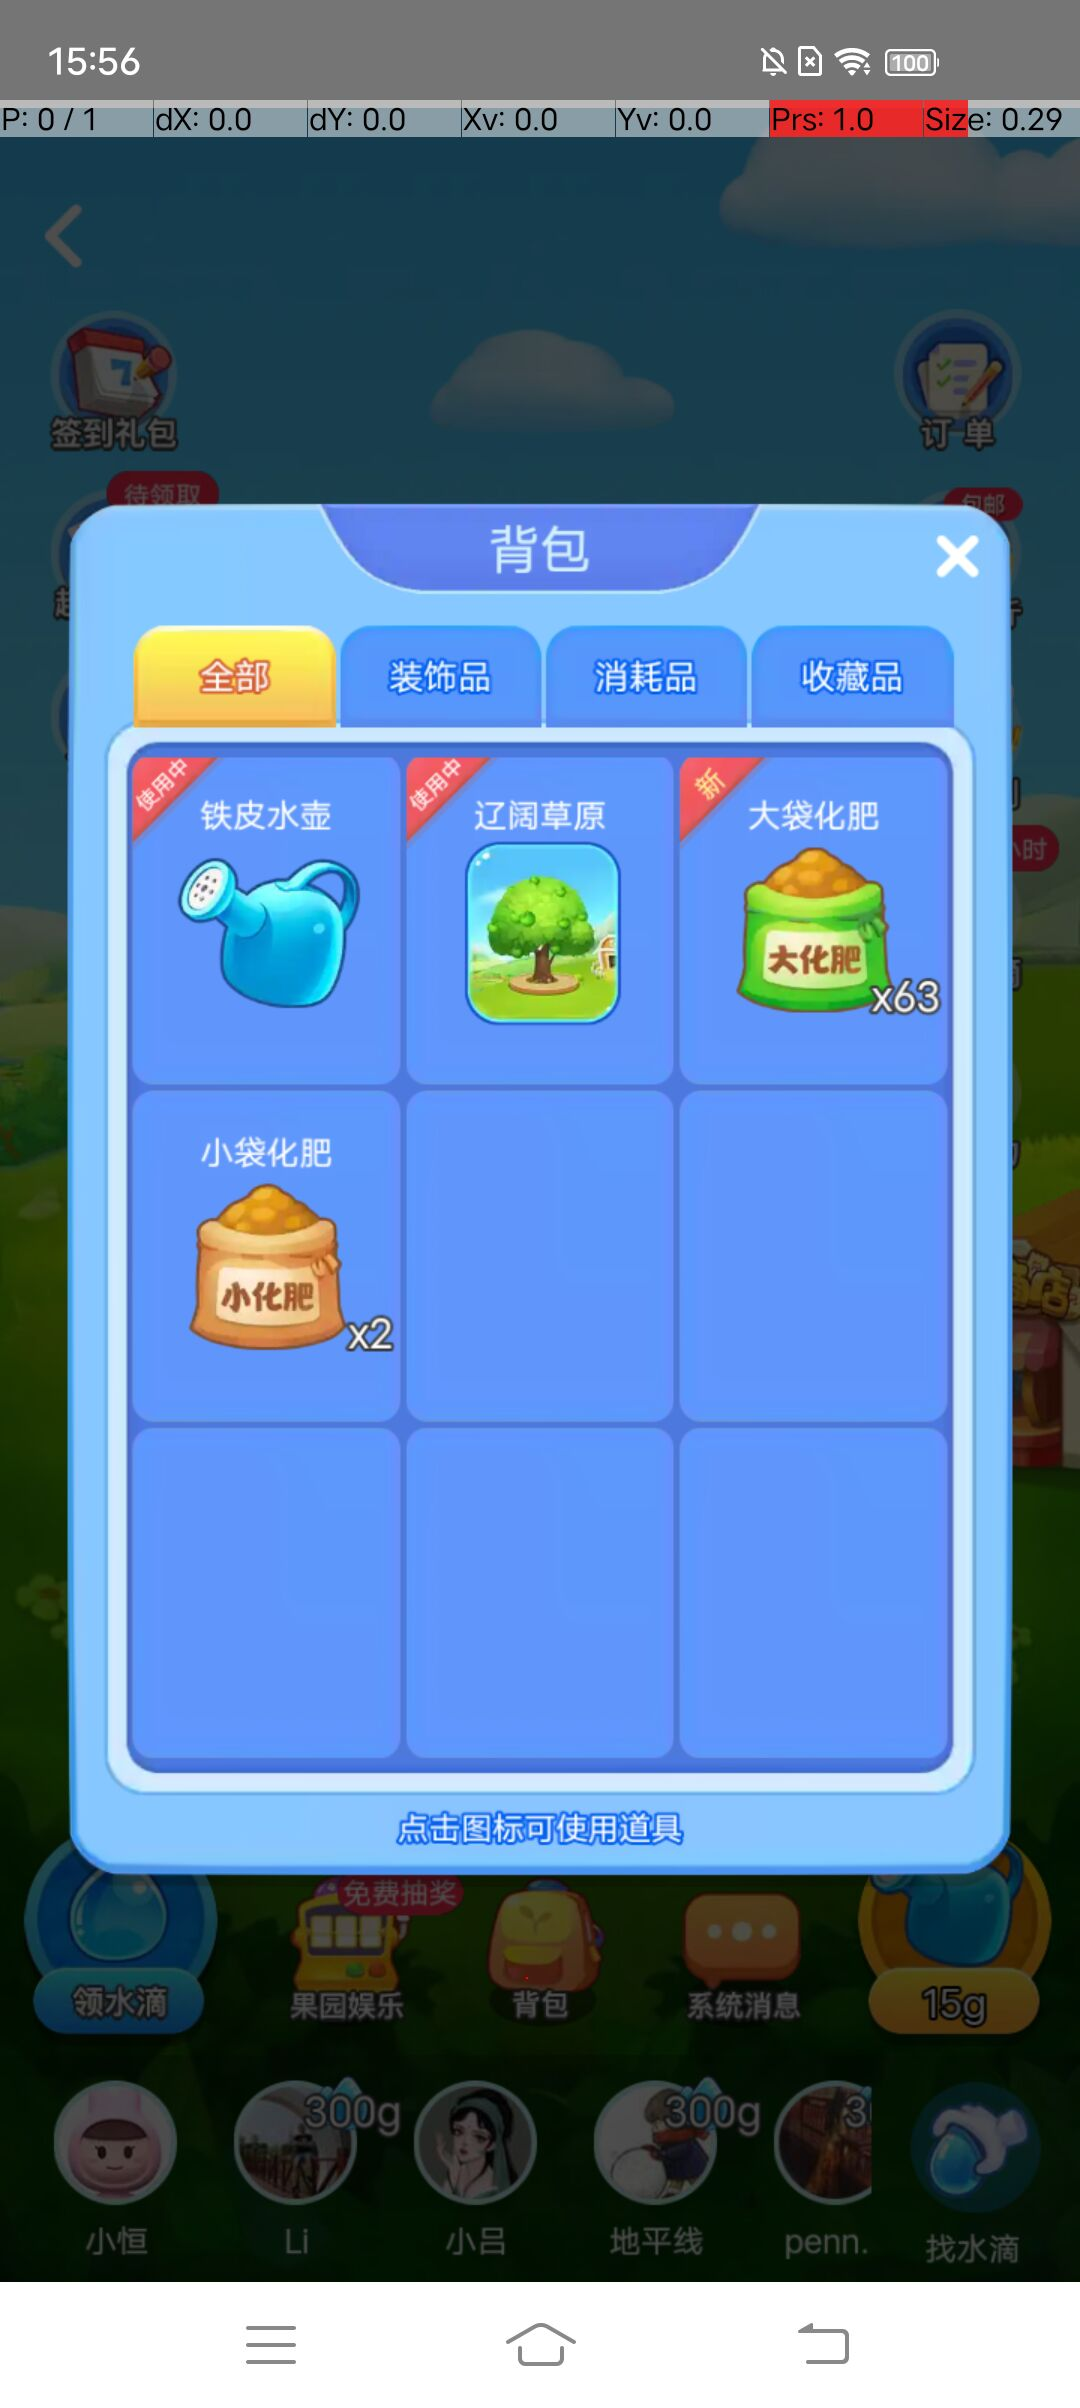popup: (939, 536, 989, 576)
